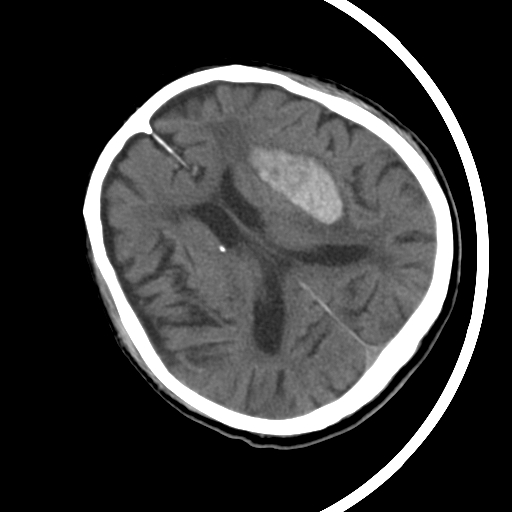a: (237, 133, 354, 240)
